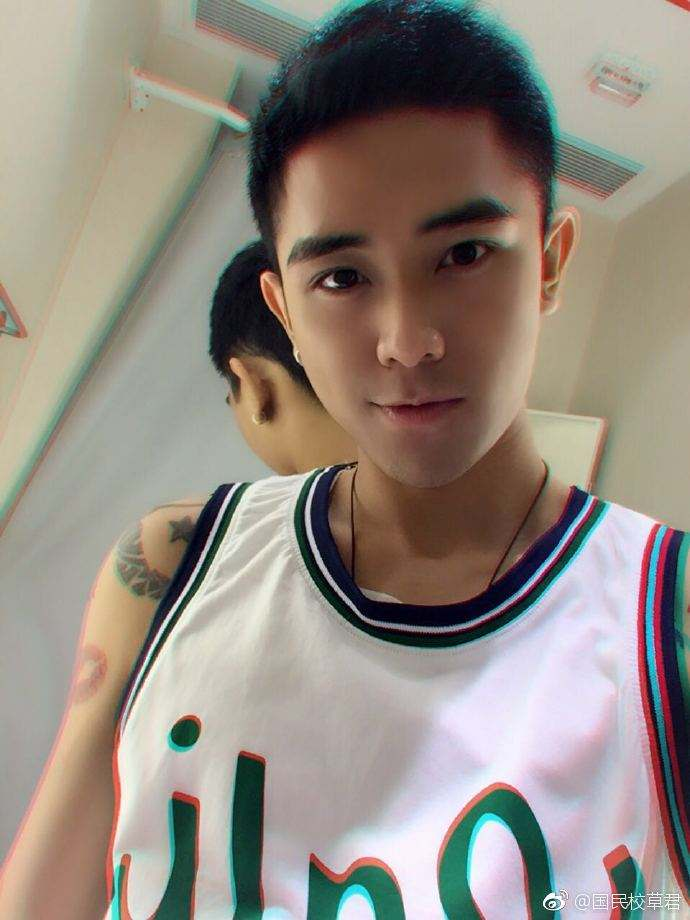person: (86, 17, 566, 826)
